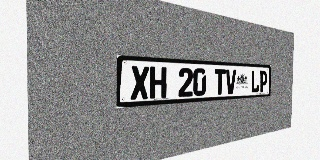0: (193, 68, 206, 96)
2: (178, 68, 193, 97)
H: (150, 66, 167, 99)
L: (251, 70, 259, 93)
P: (259, 71, 267, 92)
T: (214, 69, 226, 95)
V: (225, 69, 236, 94)
X: (130, 66, 149, 100)
